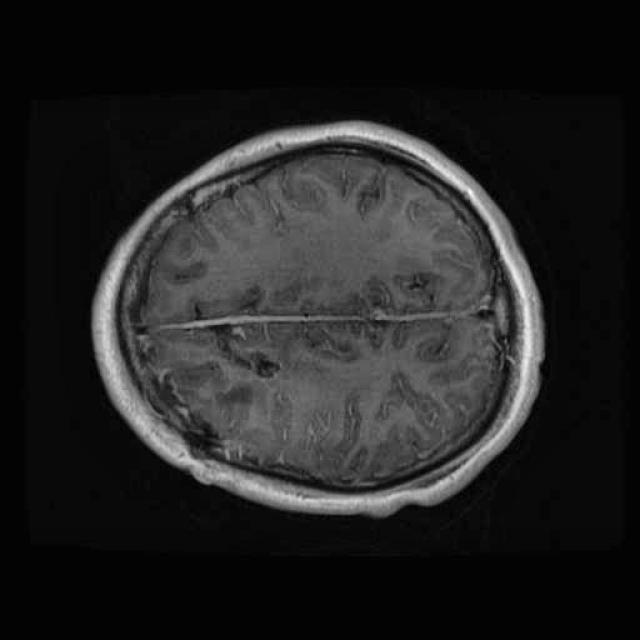Non-Tumor: (140, 355, 268, 466)
